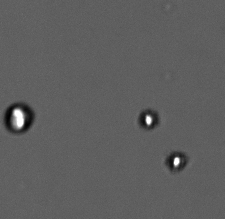Living Cell: (3, 102, 36, 135), (165, 150, 189, 173), (137, 108, 159, 131)
